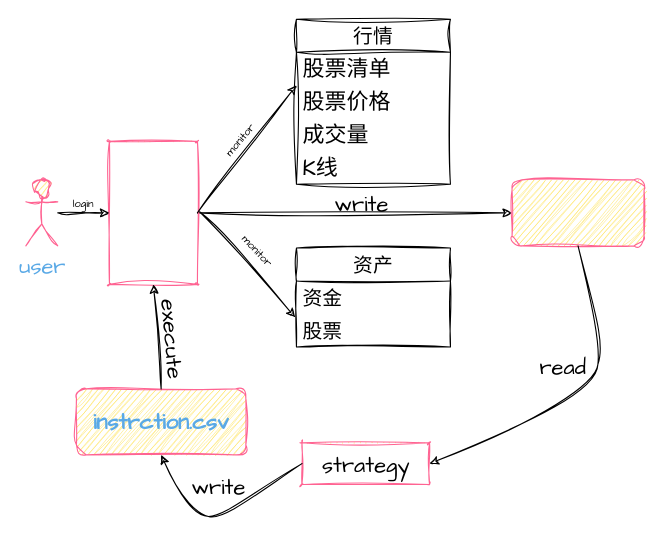
This 663x537 diagram has some shape labels left out. The shapes that lost their labels are listed below. From the top down, each one's centre as x and y in pixels, then its label:
the point at 152,212: iQuant
the point at 577,212: date.csv
